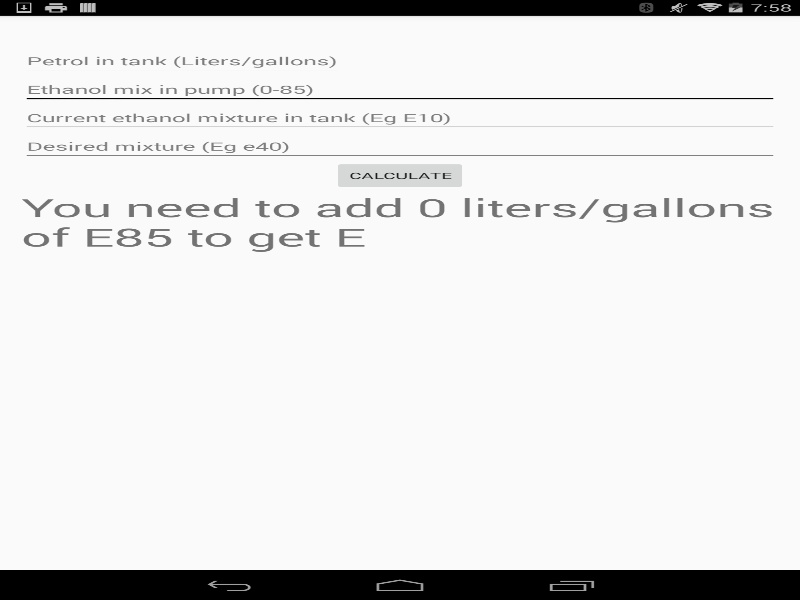Button: (332, 160, 467, 190)
Input: (21, 103, 778, 132), (21, 75, 778, 103), (21, 132, 778, 160), (21, 46, 343, 75)
